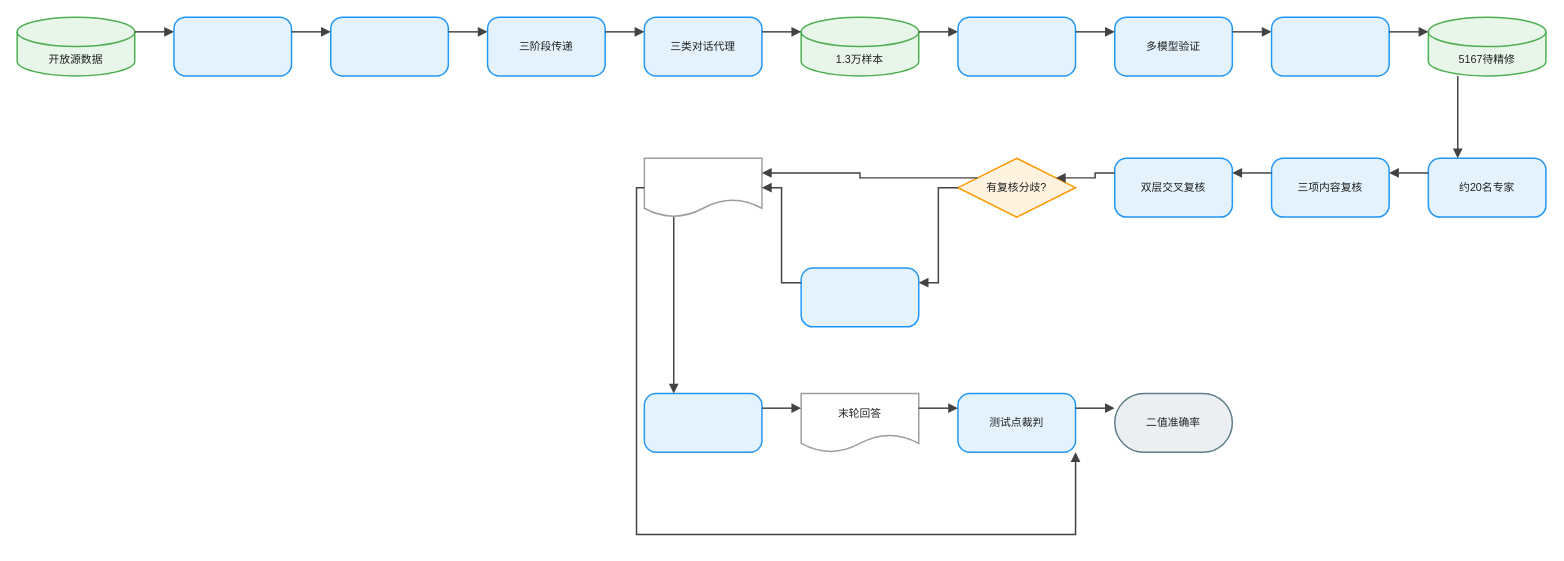
This 1564x561 diagram has some shape labels left out. The shapes that lost their labels are listed below. From the top down, each one's centre as x and y in pixels, then its label:
the point at 232,46: 约5万问题
the point at 389,46: 科室场景映射
the point at 1016,46: 生成代理
the point at 1329,46: 会话评估初筛
the point at 702,187: 400条JSONL
the point at 859,297: 第三人仲裁
the point at 702,422: 待测模型
